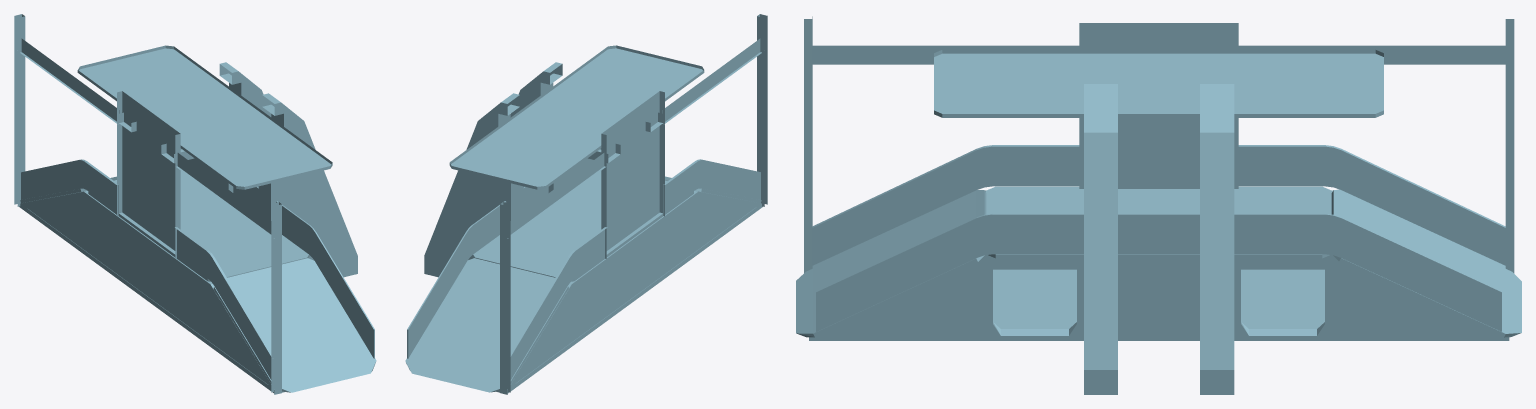
The model's file is BC_Collider_JieTi_2.FBX.
3 views of the same model, side by side, from view 1: azimuth 30°, elevation 25°; view 2: azimuth 150°, elevation 25°; view 3: azimuth 270°, elevation 25° (orthographic). The views are drawn at different scales.
Parts seen in each view (by area): view 1: BC_Collider_JieTi_2; view 2: BC_Collider_JieTi_2; view 3: BC_Collider_JieTi_2.
Part boxes in pixels (box(x1,y1,x2,y2)): BC_Collider_JieTi_2: box(14, 14, 376, 394); BC_Collider_JieTi_2: box(405, 14, 767, 394); BC_Collider_JieTi_2: box(796, 16, 1521, 394).
Size of the model in its own units: 8.29 by 8.2 by 20.52.
